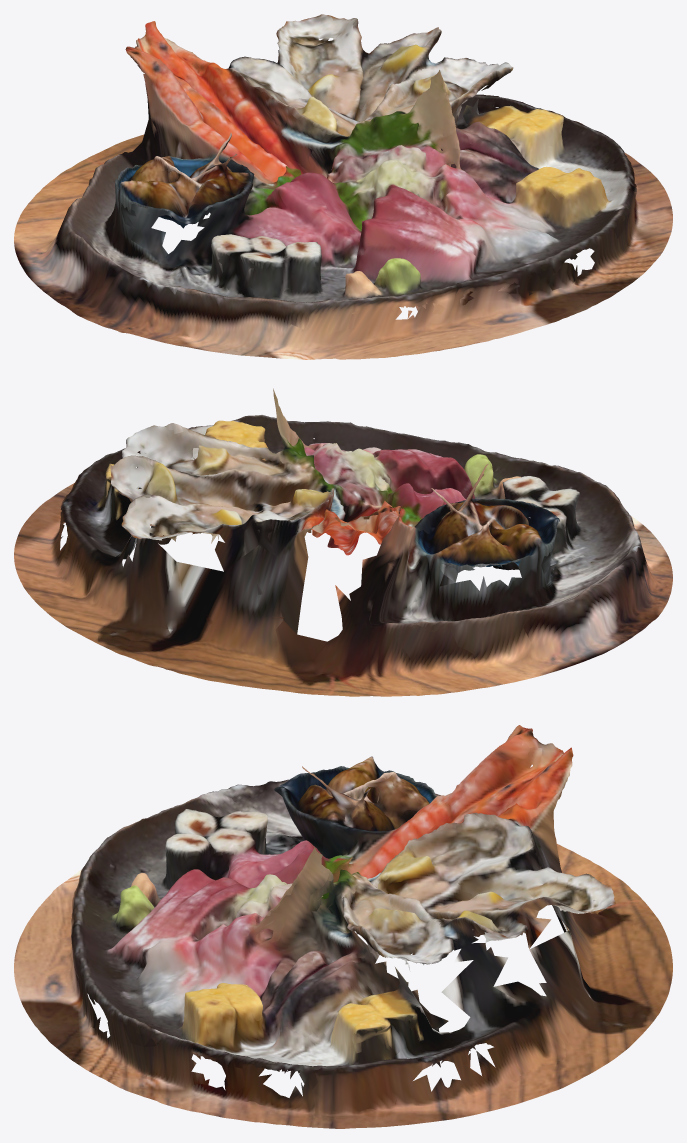
Rendered from akihabara_sashimi_platter.glb.
The picture shows the model from 3 angles, top to bottom: view 1: azimuth 30°, elevation 25°; view 2: azimuth 150°, elevation 25°; view 3: azimuth 270°, elevation 25°; orthographic projection. The views are drawn at different scales.
Parts seen in each view (by area): view 1: Object_2, Object_3; view 2: Object_2, Object_3; view 3: Object_2, Object_3.
Part boxes in pixels (x1,y1,x2,y2): Object_2: [14, 15, 672, 359]; Object_3: [67, 14, 661, 359]; Object_2: [14, 388, 672, 696]; Object_3: [62, 399, 666, 666]; Object_2: [14, 725, 672, 1128]; Object_3: [14, 728, 614, 1117].
Bounding box in the file's own units: 0.4563 × 0.1181 × 0.4017.
1 material, 1 textured.
